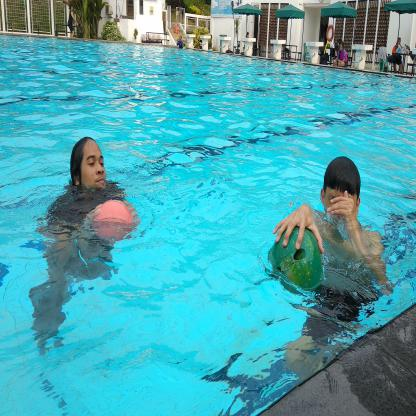green_buoy: (264, 223, 327, 295)
red_buoy: (91, 193, 137, 251)
